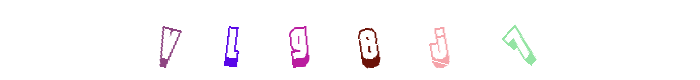7: (480, 0, 560, 80)
8: (328, 0, 408, 80)
G: (310, 0, 390, 80)
J: (329, 0, 409, 80)
L: (213, 0, 293, 80)
V: (191, 0, 271, 80)
